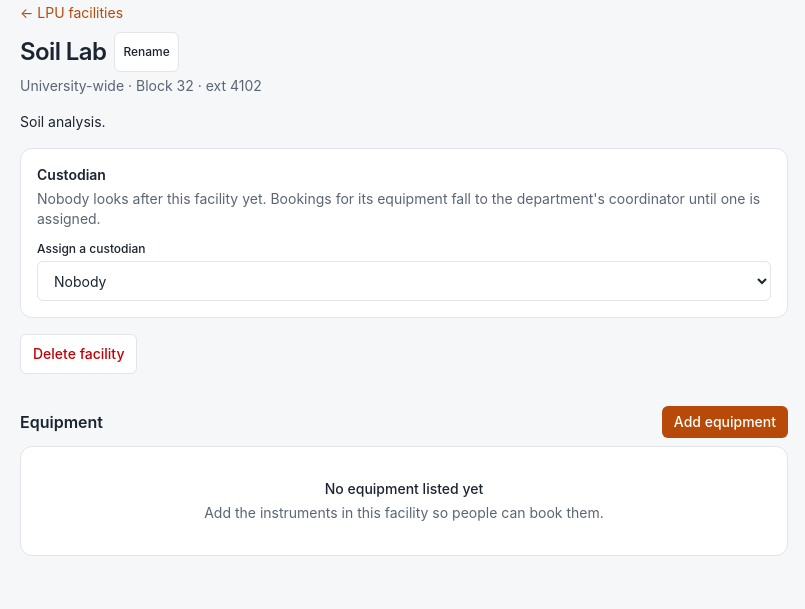
Scenario: FacilityDetailPage › surfaces a refusal from the API
This screenshot has width=805, height=609.
Click the button "Rename" at (147, 52), box x1=114 y1=32 x2=179 y2=72
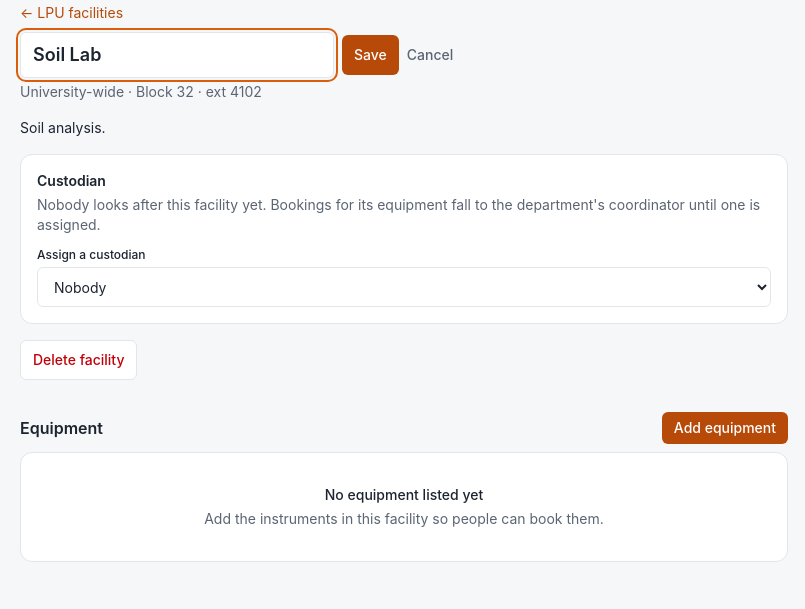
Replace the text in the field named "Facility name" with "Someone Else's Lab" at (177, 55), box x1=20 y1=32 x2=334 y2=78
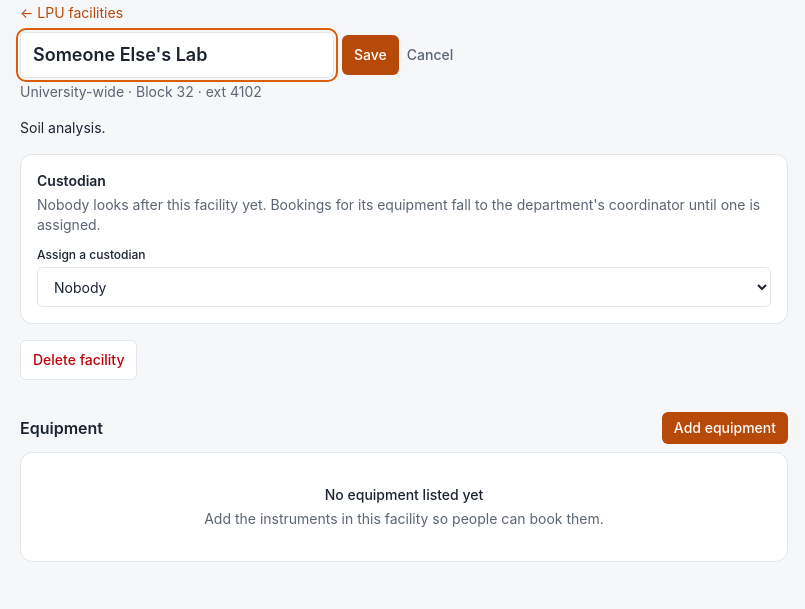
Click the button "Save" at (370, 55), box x1=342 y1=35 x2=399 y2=75
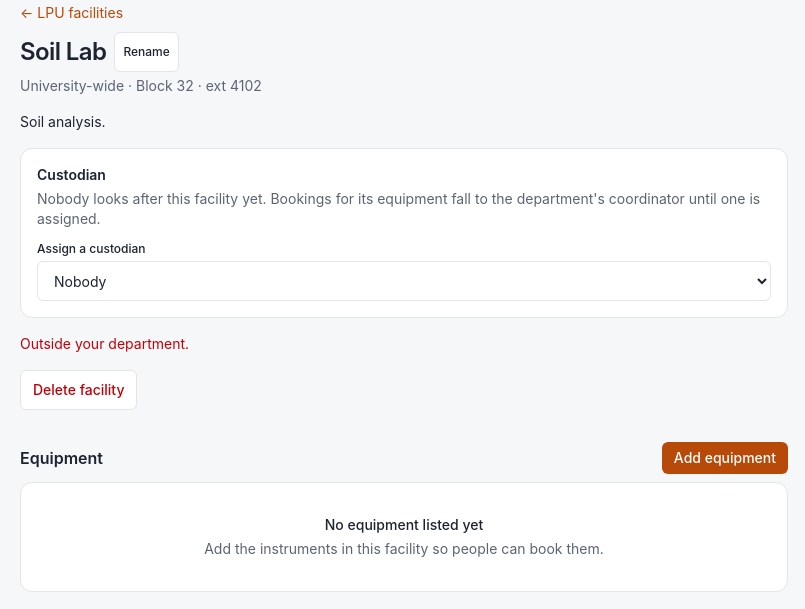
Now the message "Outside your department." is shown, box x1=20 y1=335 x2=189 y2=352
